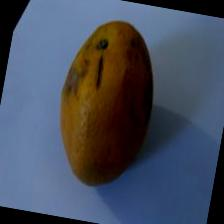Orange Rotten: (38, 7, 176, 198)
